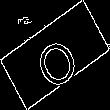O_NW: (27, 22, 83, 88)
